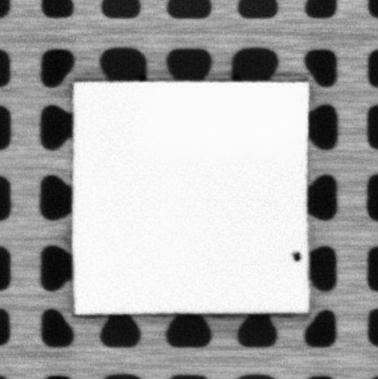DIE_INK: (290, 250, 303, 264)
